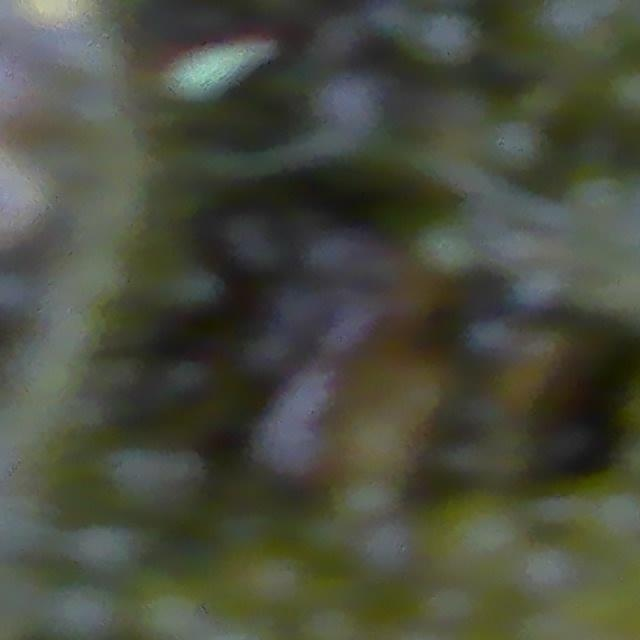SeaGrape: (427, 486, 531, 595), (43, 578, 120, 640), (133, 579, 209, 640), (514, 537, 581, 602), (582, 482, 640, 553), (71, 520, 140, 579)
